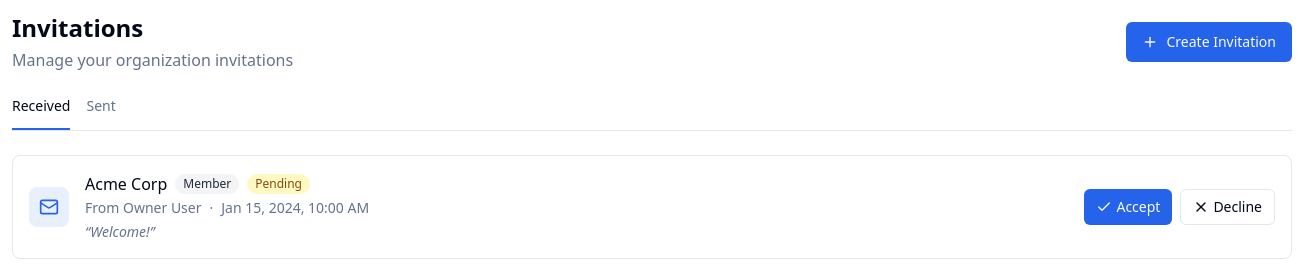
Test: InvitationsPage › should switch to Sent tab when clicked
Click the tab "Sent" at (101, 113), box [86, 96, 116, 130]
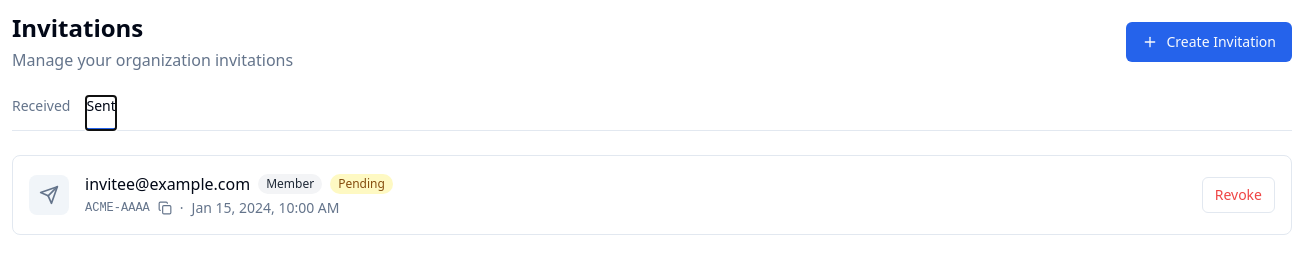
expect the text "invitee@example.com" is shown: met, box [85, 172, 250, 196]
expect the text "ACME-AAAA" is shown: met, box [85, 200, 150, 216]
